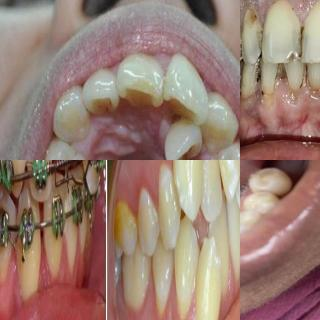Gum Swelling: (256, 71, 320, 119), (240, 0, 320, 35)
calculus: (273, 60, 289, 92), (298, 60, 312, 95), (254, 25, 268, 55), (250, 64, 263, 90), (240, 36, 246, 58)
maligned: (161, 54, 213, 128), (185, 234, 229, 320), (144, 116, 202, 160), (199, 160, 225, 220), (214, 160, 240, 198)
stains: (110, 204, 138, 252), (293, 23, 309, 61)
